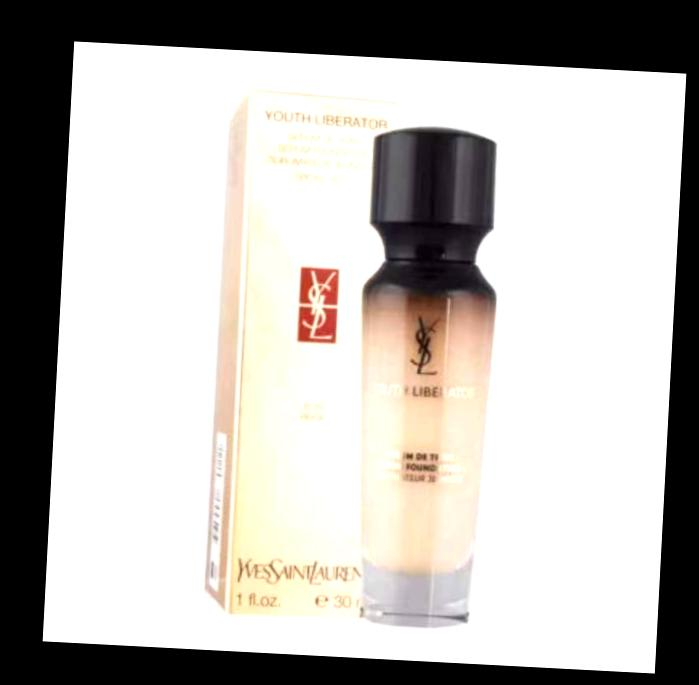cosmetic: (343, 132, 506, 630)
